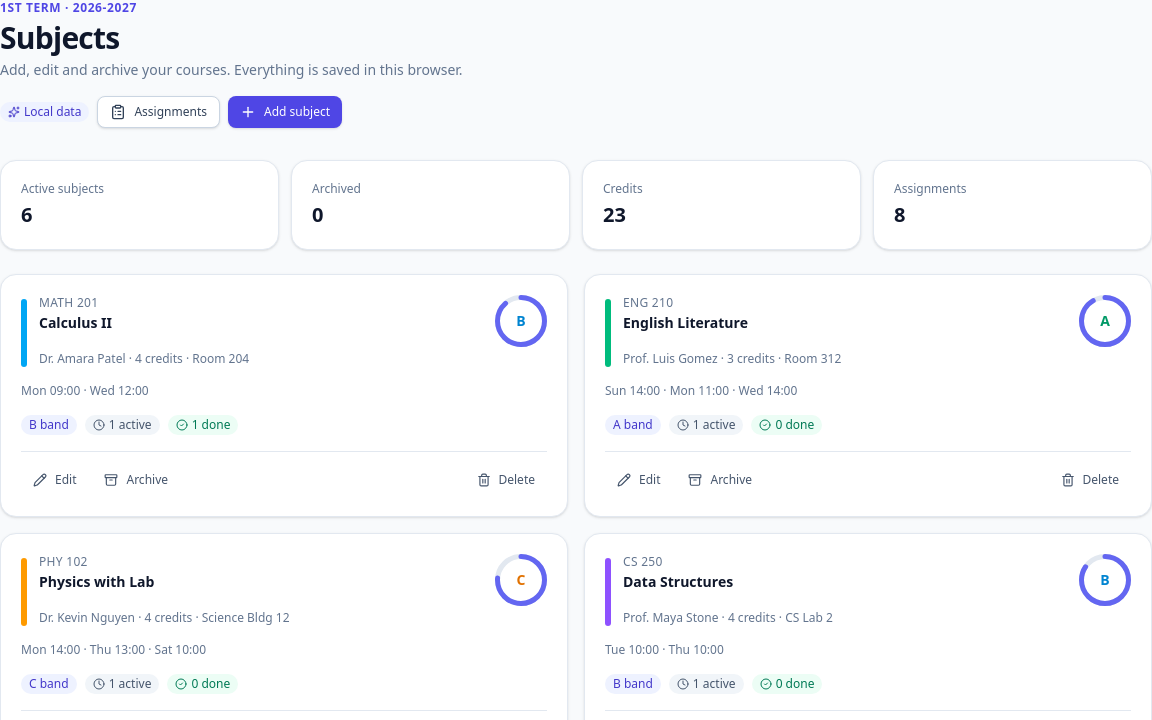
Test: SubjectsPage › archives from the delete dialog without losing assignments
This screenshot has width=1152, height=720.
What coordinates should you click on to do the following:
click the button with aria-label "Delete Calculus II"
I would click on:
 (506, 480)
Its box is x1=464 y1=464 x2=547 y2=496.
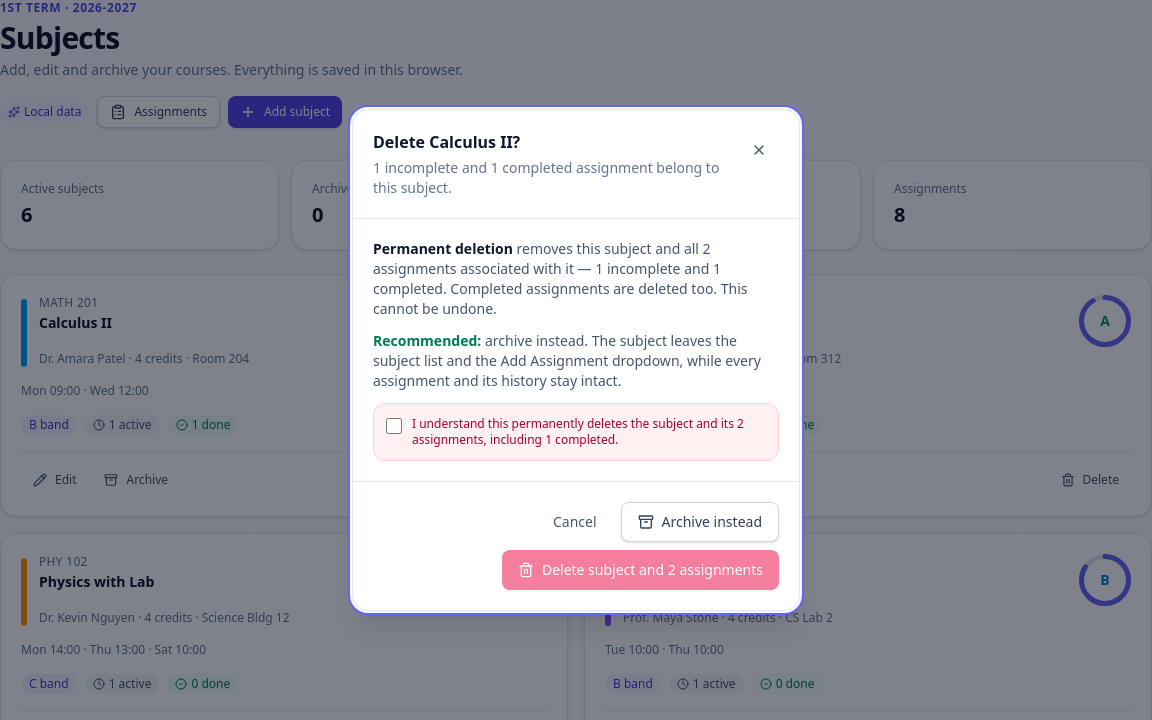
What coordinates should you click on to do the following:
click the button "Archive instead"
I would click on:
 (700, 522)
Its box is x1=620 y1=502 x2=779 y2=542.
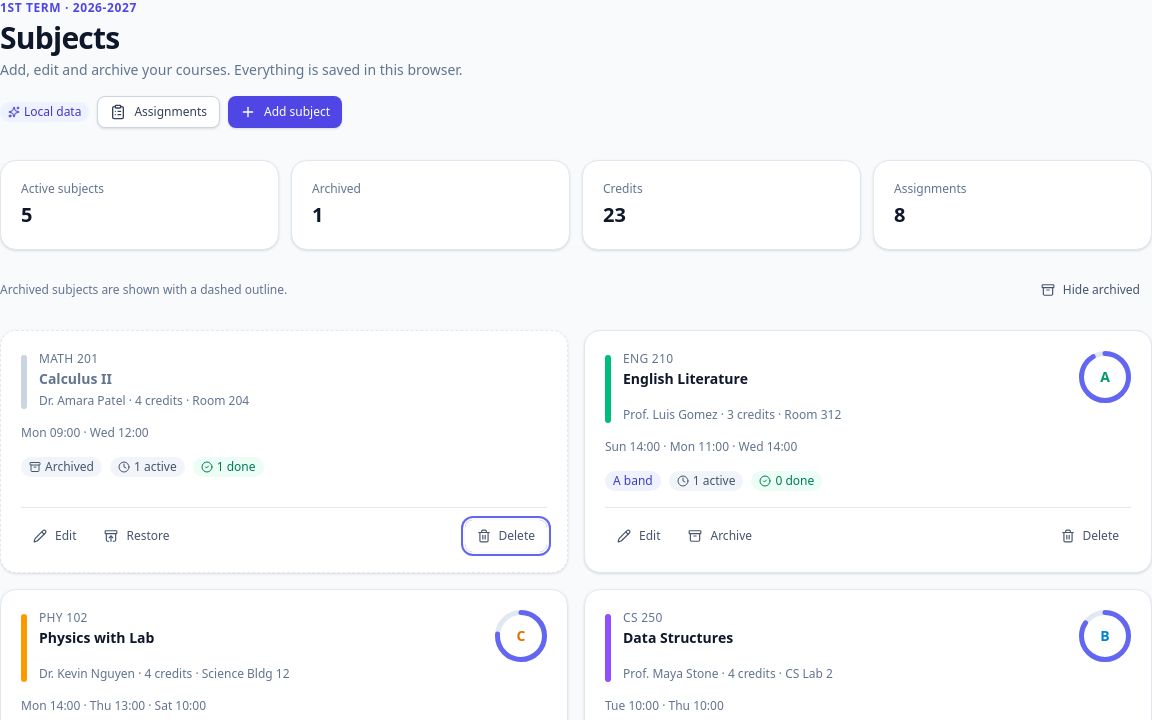
Now the button with aria-label "Restore Calculus II" is shown, box x1=92 y1=520 x2=182 y2=552
Now the dialog is gone
